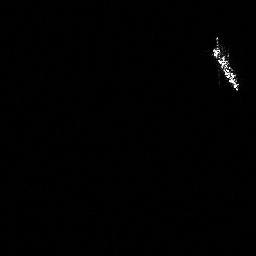ship: (210, 35, 241, 93)
